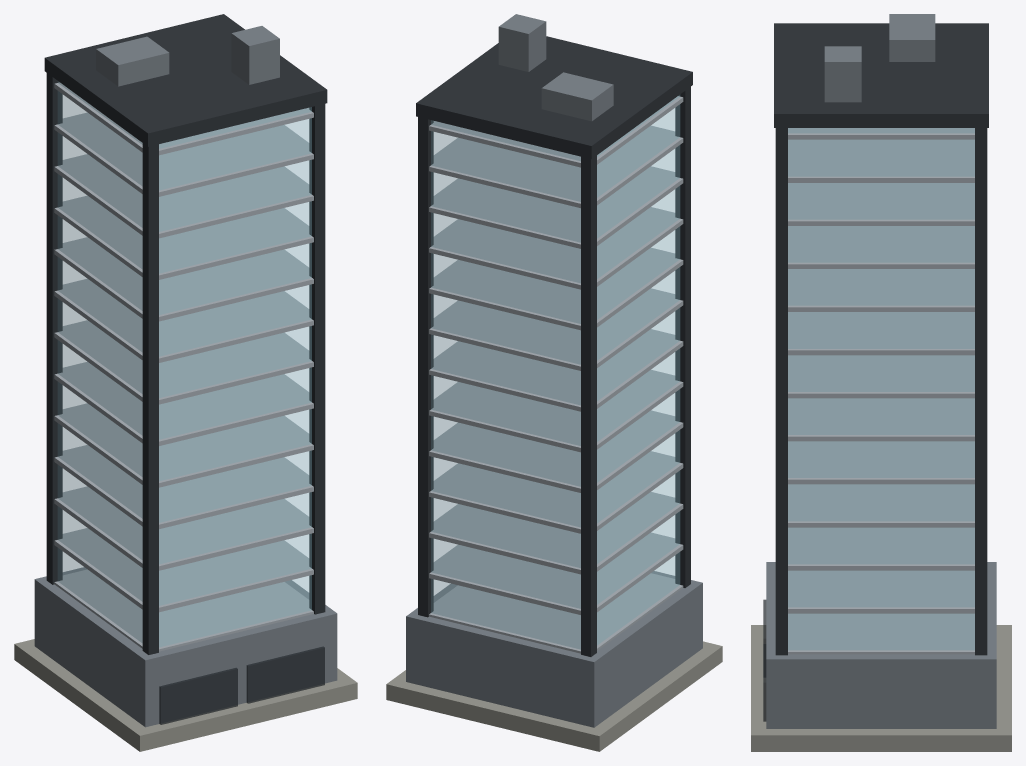
The model's file is office-tower-a.glb.
3 views of the same model, side by side, from view 1: azimuth 30°, elevation 25°; view 2: azimuth 150°, elevation 25°; view 3: azimuth 270°, elevation 25° (orthographic). The views are drawn at different scales.
Visible parts, largest first — view 1: office-tower-a; view 2: office-tower-a; view 3: office-tower-a.
Boxes of the visible parts, x1=… form: office-tower-a: x1=14, y1=14, x2=357, y2=751; office-tower-a: x1=386, y1=14, x2=722, y2=751; office-tower-a: x1=751, y1=14, x2=1011, y2=751.
Size of the model in its own units: 17 by 48.1 by 17.
